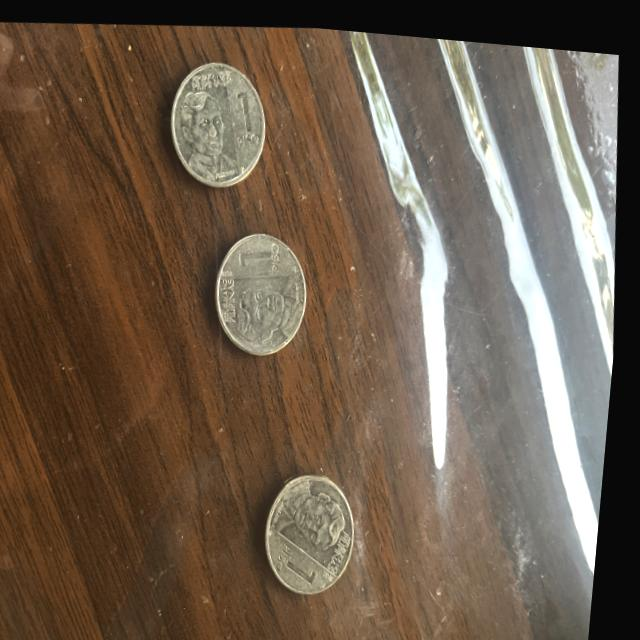1_New_Front: (174, 67, 266, 174), (220, 234, 308, 345), (278, 481, 364, 582)
